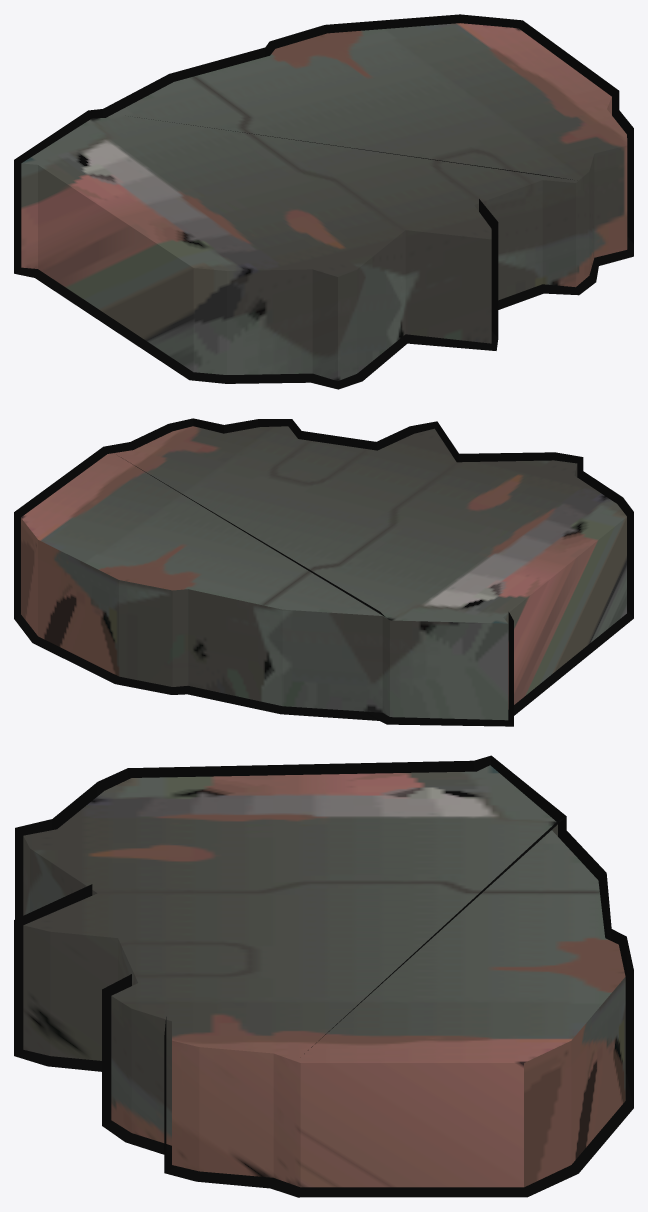
File: Building_AncientJetEngine_Things_Building_Ruins_JetEngine.glb
3 views of the same model, one above another, from view 1: azimuth 30°, elevation 25°; view 2: azimuth 150°, elevation 25°; view 3: azimuth 270°, elevation 25° (orthographic). The views are drawn at different scales.
Visible parts, largest first — view 1: Body, Outline; view 2: Body, Outline; view 3: Body, Outline.
Boxes of the visible parts, bbox=[...] form: Body: bbox=[21, 23, 627, 380]; Outline: bbox=[14, 14, 633, 389]; Body: bbox=[21, 426, 626, 720]; Outline: bbox=[14, 418, 633, 726]; Body: bbox=[23, 765, 625, 1187]; Outline: bbox=[14, 755, 633, 1197].
Size of the model in its own units: 1.49 by 0.324 by 1.28.
Materials: 2 (1 with a texture image).
